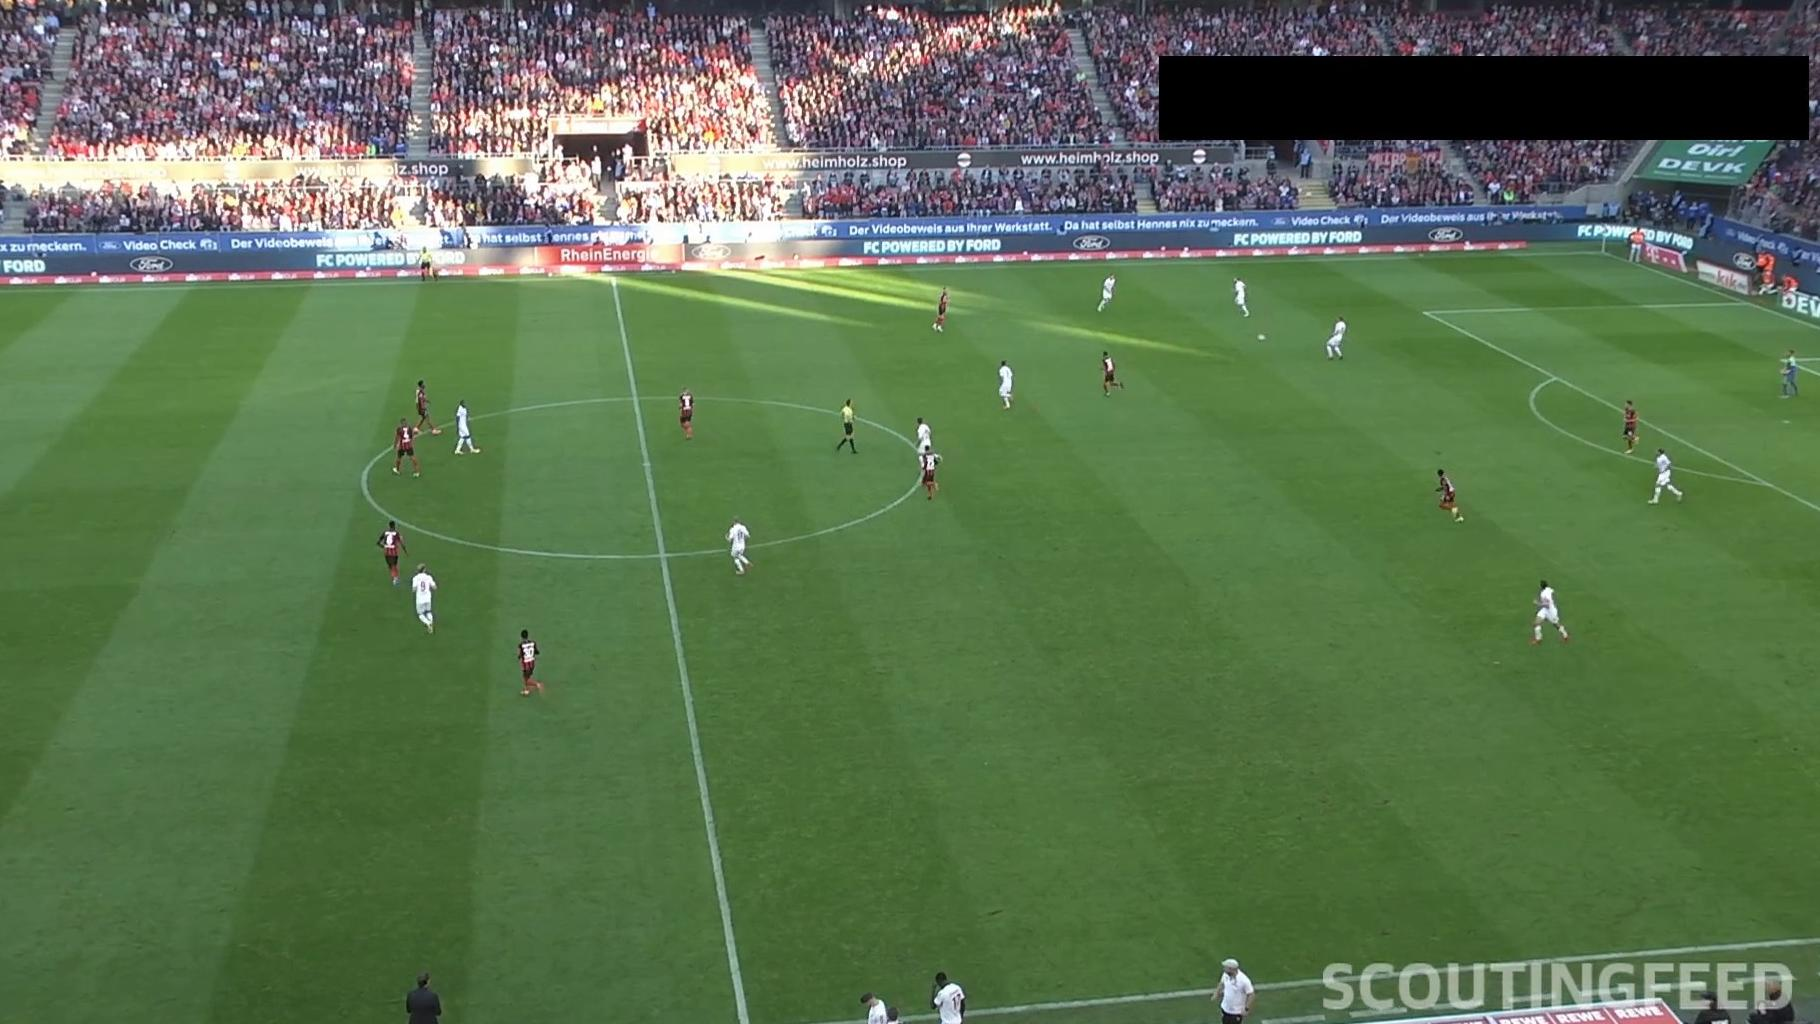ball: (1257, 333, 1266, 341)
